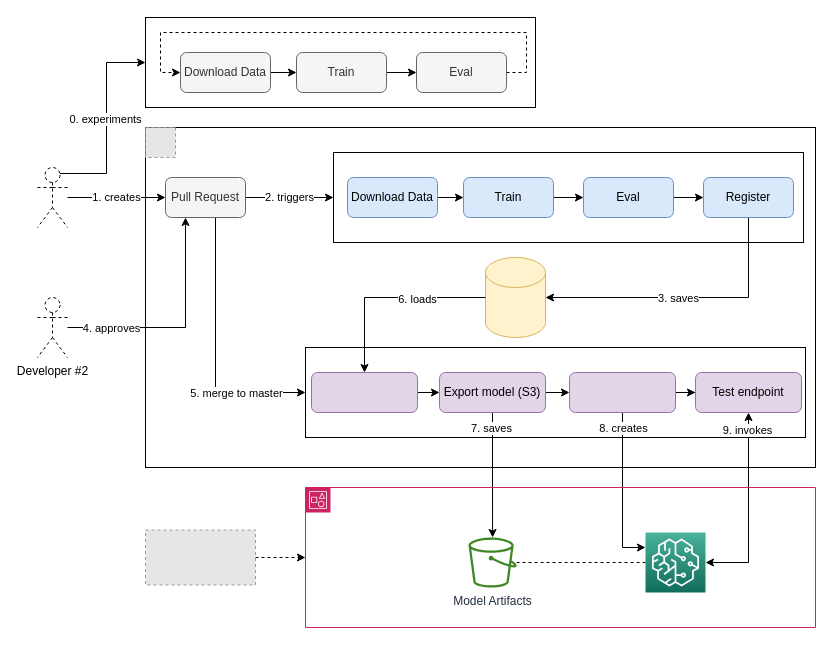
This 833x645 diagram has some shape labels left out. Grey dashed boxes stand in for pictures. The box of each missing label's shape, as (x1, y1, x2, y2) in pixels:
AWS Account: (304, 486, 816, 628)
Deploy endpoint: (568, 372, 676, 412)
Developer: (36, 166, 68, 228)
Download Model: (310, 372, 418, 412)
Model Endpoint: (644, 532, 706, 592)
Model Registry: (484, 256, 546, 338)
